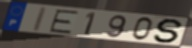0: (132, 17, 155, 41)
1: (84, 11, 97, 37)
9: (105, 14, 128, 38)
E: (48, 9, 81, 35)
I: (30, 6, 49, 33)
S: (152, 18, 186, 44)
